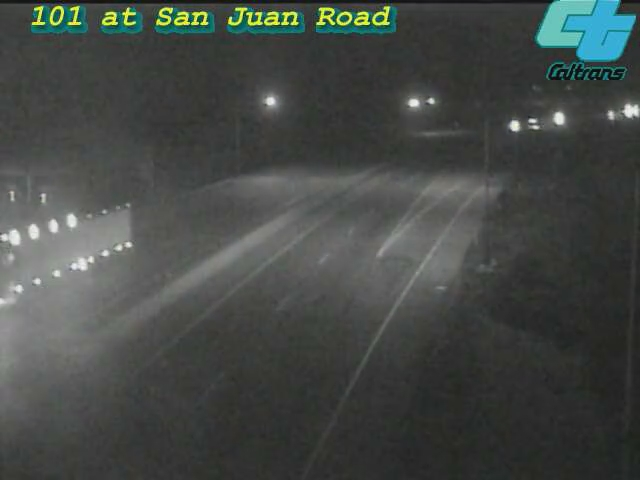vehicle: (1, 221, 71, 301), (585, 90, 635, 140), (510, 99, 560, 149), (491, 102, 541, 152), (532, 95, 582, 145), (503, 97, 553, 147), (605, 86, 640, 136)
